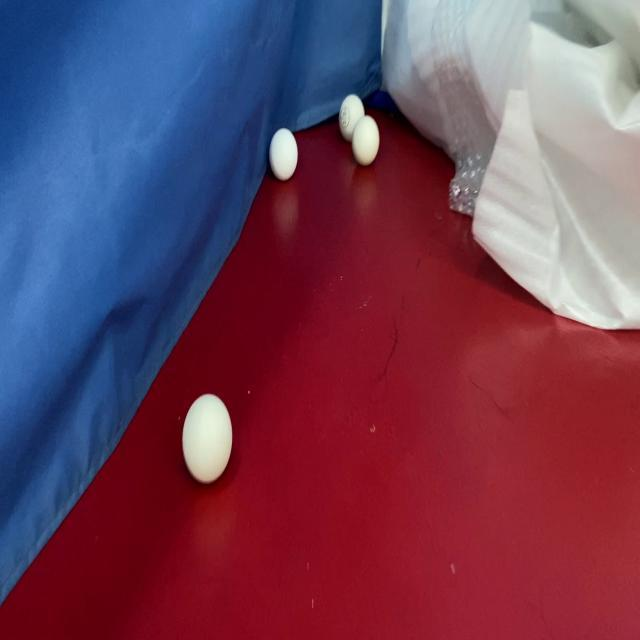ping-pong-ball: (181, 391, 235, 484), (268, 124, 299, 184), (350, 112, 380, 168)
